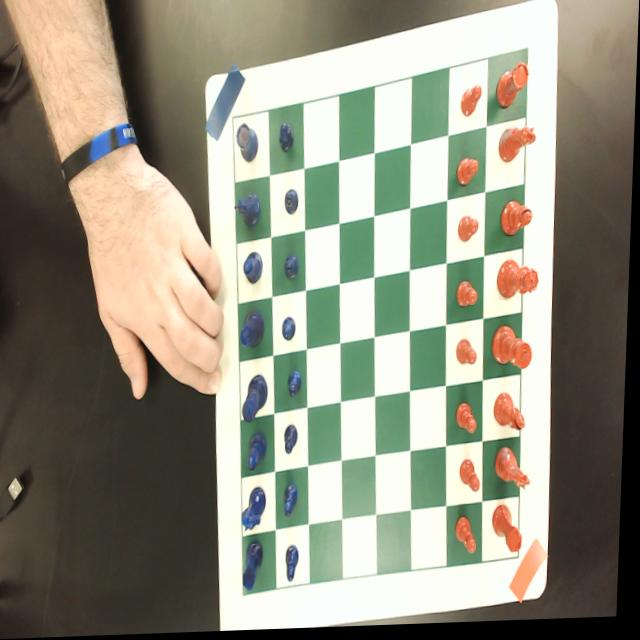B: (250, 434, 271, 473), (244, 254, 265, 287)
K: (245, 376, 272, 426)
N: (245, 490, 271, 535), (236, 194, 263, 230)
P: (288, 547, 305, 586), (280, 121, 297, 156), (287, 486, 303, 521), (285, 189, 302, 220), (285, 254, 302, 284), (283, 317, 300, 345), (289, 372, 306, 400), (287, 427, 302, 458)
Q: (243, 313, 268, 351)
R: (246, 541, 269, 594), (236, 125, 261, 165)
b: (497, 396, 530, 437), (502, 202, 535, 241)
cb: (234, 53, 528, 598)
k: (494, 328, 536, 375)
n: (497, 448, 536, 498), (499, 129, 538, 168)
p: (458, 519, 481, 559), (462, 462, 485, 497), (458, 406, 481, 438), (462, 87, 483, 121), (458, 159, 480, 190), (458, 283, 481, 312), (458, 341, 481, 369), (459, 220, 480, 246)
q: (499, 262, 542, 304)
r: (496, 65, 531, 115), (495, 507, 527, 558)
